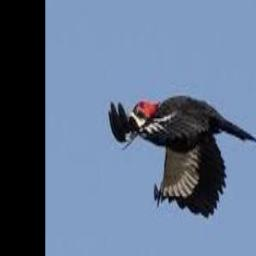Woodpecker: (109, 94, 256, 219)
